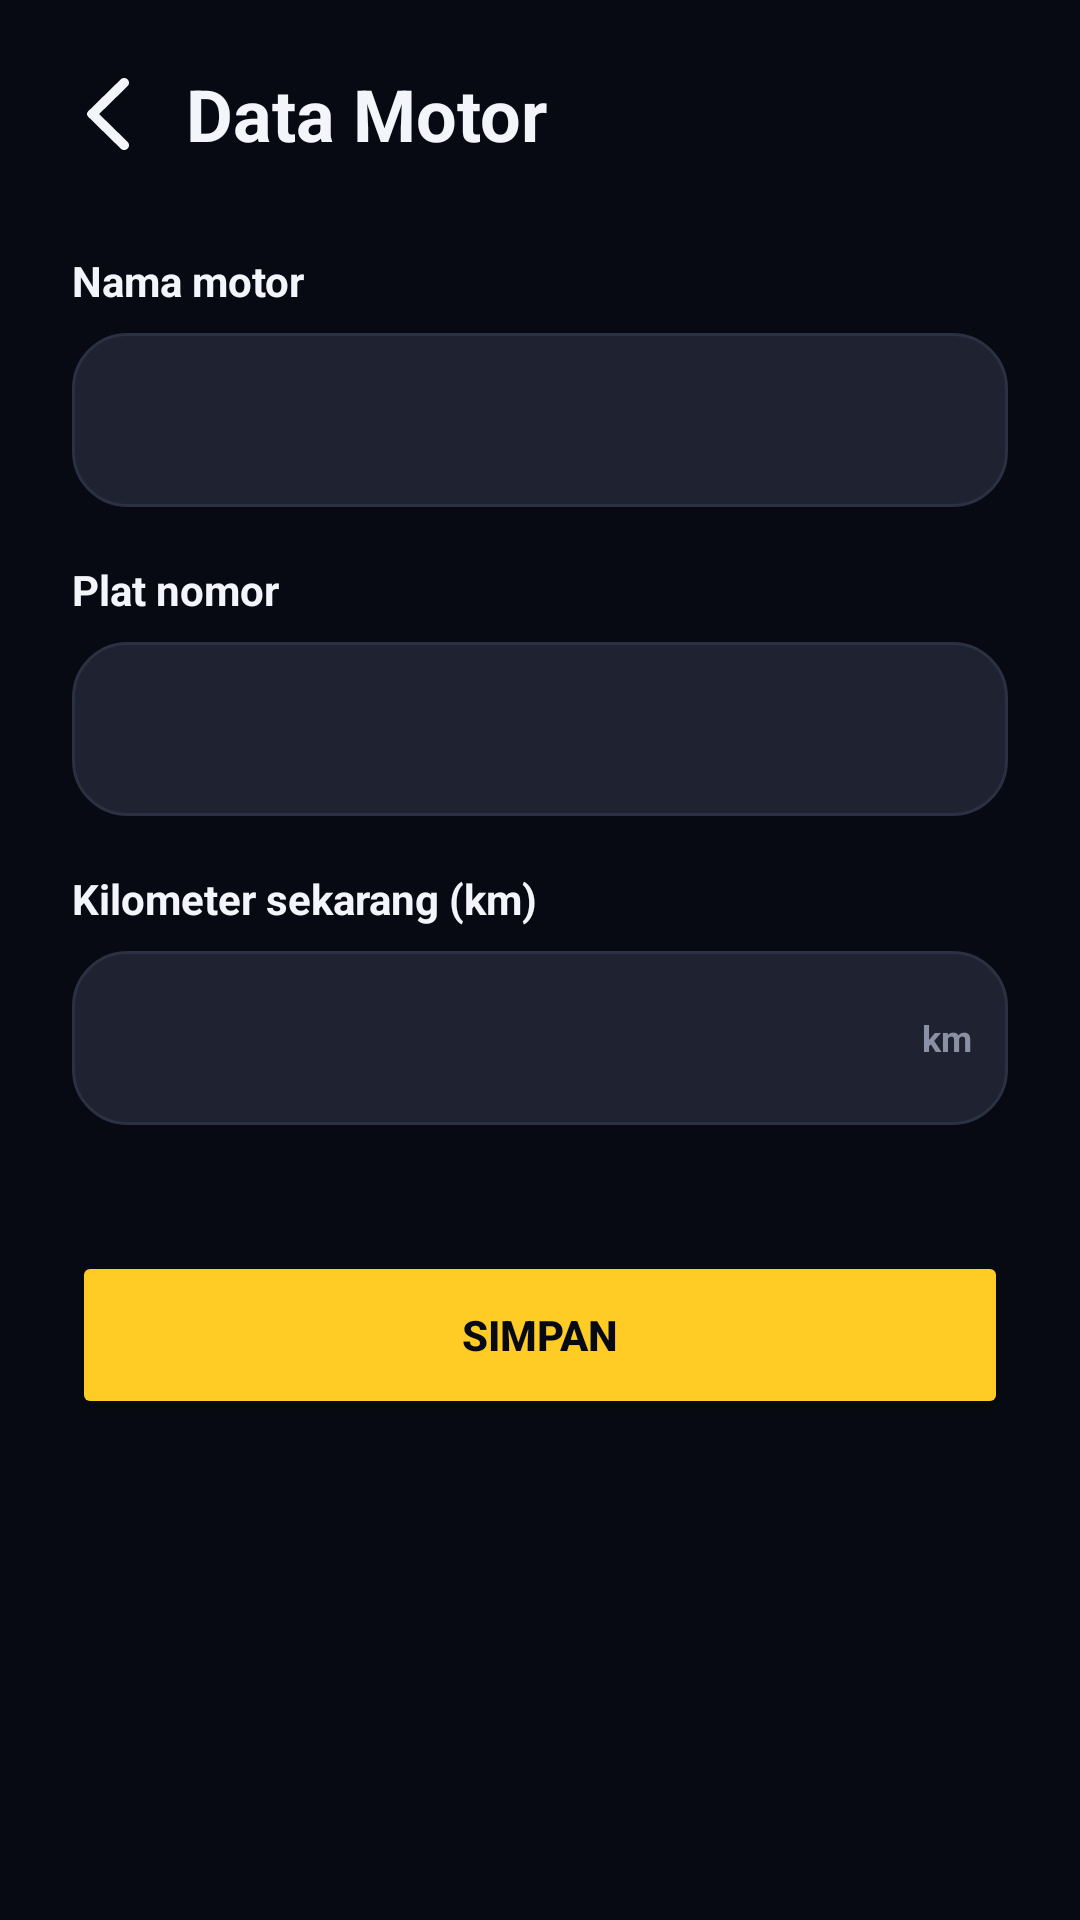

Screen size 1080 × 1920. Icon name, then its box in pixels as region(x1, y1, x2, y2):
Kembali: region(87, 78, 129, 150)
